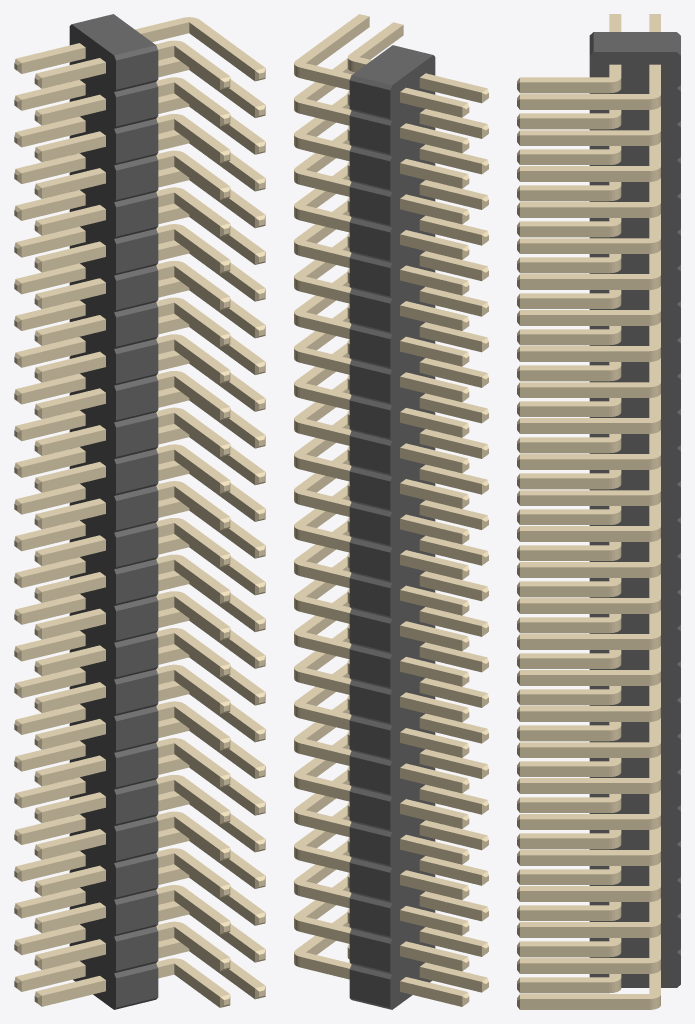
File: PinHeader_2x26_P1.00mm_Horizontal.glb
The picture shows the model from 3 angles, left to right: view 1: azimuth 30°, elevation 25°; view 2: azimuth 150°, elevation 25°; view 3: azimuth 270°, elevation 25°; orthographic projection. The views are drawn at different scales.
Visible parts, largest first — view 1: Shape_IndexedFaceSet.004, Shape_IndexedFaceSet.001, Shape_IndexedFaceSet.022, Shape_IndexedFaceSet.046, Shape_IndexedFaceSet.088, Shape_IndexedFaceSet.106, Shape_IndexedFaceSet.112, Shape_IndexedFaceSet.130, Shape_IndexedFaceSet.154, Shape_IndexedFaceSet.010, Shape_IndexedFaceSet.028, Shape_IndexedFaceSet.034 (+96 smaller); view 2: Shape_IndexedFaceSet.004, Shape_IndexedFaceSet.001, Shape_IndexedFaceSet.037, Shape_IndexedFaceSet.091, Shape_IndexedFaceSet.103, Shape_IndexedFaceSet.049, Shape_IndexedFaceSet.061, Shape_IndexedFaceSet.133, Shape_IndexedFaceSet.145, Shape_IndexedFaceSet.157, Shape_IndexedFaceSet.019, Shape_IndexedFaceSet.025 (+122 smaller); view 3: Shape_IndexedFaceSet.003, Shape_IndexedFaceSet.001, Shape_IndexedFaceSet.632, Shape_IndexedFaceSet.637, Shape_IndexedFaceSet.642, Shape_IndexedFaceSet.647, Shape_IndexedFaceSet.652, Shape_IndexedFaceSet.658, Shape_IndexedFaceSet.663, Shape_IndexedFaceSet.667, Shape_IndexedFaceSet.672, Shape_IndexedFaceSet.677 (+94 smaller).
Part boxes in pixels (bbox=[...]): Shape_IndexedFaceSet.004: bbox=[69, 24, 115, 1009]; Shape_IndexedFaceSet.001: bbox=[72, 14, 155, 55]; Shape_IndexedFaceSet.022: bbox=[116, 160, 158, 199]; Shape_IndexedFaceSet.046: bbox=[116, 307, 158, 346]; Shape_IndexedFaceSet.088: bbox=[116, 564, 158, 603]; Shape_IndexedFaceSet.106: bbox=[116, 674, 158, 713]; Shape_IndexedFaceSet.112: bbox=[116, 711, 158, 750]; Shape_IndexedFaceSet.130: bbox=[116, 821, 158, 860]; Shape_IndexedFaceSet.154: bbox=[116, 968, 158, 1007]; Shape_IndexedFaceSet.010: bbox=[116, 87, 158, 126]; Shape_IndexedFaceSet.028: bbox=[116, 197, 158, 236]; Shape_IndexedFaceSet.034: bbox=[116, 234, 158, 273]; Shape_IndexedFaceSet.004: bbox=[390, 55, 435, 1009]; Shape_IndexedFaceSet.001: bbox=[352, 45, 432, 84]; Shape_IndexedFaceSet.037: bbox=[349, 258, 390, 296]; Shape_IndexedFaceSet.091: bbox=[349, 578, 390, 616]; Shape_IndexedFaceSet.103: bbox=[349, 649, 390, 687]; Shape_IndexedFaceSet.049: bbox=[349, 329, 390, 367]; Shape_IndexedFaceSet.061: bbox=[349, 400, 390, 438]; Shape_IndexedFaceSet.133: bbox=[349, 827, 390, 865]; Shape_IndexedFaceSet.145: bbox=[349, 898, 390, 936]; Shape_IndexedFaceSet.157: bbox=[349, 969, 390, 1007]; Shape_IndexedFaceSet.019: bbox=[349, 151, 390, 189]; Shape_IndexedFaceSet.025: bbox=[349, 187, 390, 225]; Shape_IndexedFaceSet.003: bbox=[589, 52, 680, 987]; Shape_IndexedFaceSet.001: bbox=[593, 32, 676, 51]; Shape_IndexedFaceSet.632: bbox=[520, 387, 649, 397]; Shape_IndexedFaceSet.637: bbox=[520, 351, 649, 361]; Shape_IndexedFaceSet.642: bbox=[520, 279, 649, 289]; Shape_IndexedFaceSet.647: bbox=[520, 315, 649, 325]; Shape_IndexedFaceSet.652: bbox=[520, 99, 649, 109]; Shape_IndexedFaceSet.658: bbox=[520, 135, 649, 145]; Shape_IndexedFaceSet.663: bbox=[520, 207, 649, 217]; Shape_IndexedFaceSet.667: bbox=[520, 171, 649, 181]; Shape_IndexedFaceSet.672: bbox=[520, 243, 649, 253]; Shape_IndexedFaceSet.677: bbox=[520, 459, 649, 469].
Bounding box in the file's own units: 2.03 × 10.24 × 1.62.
